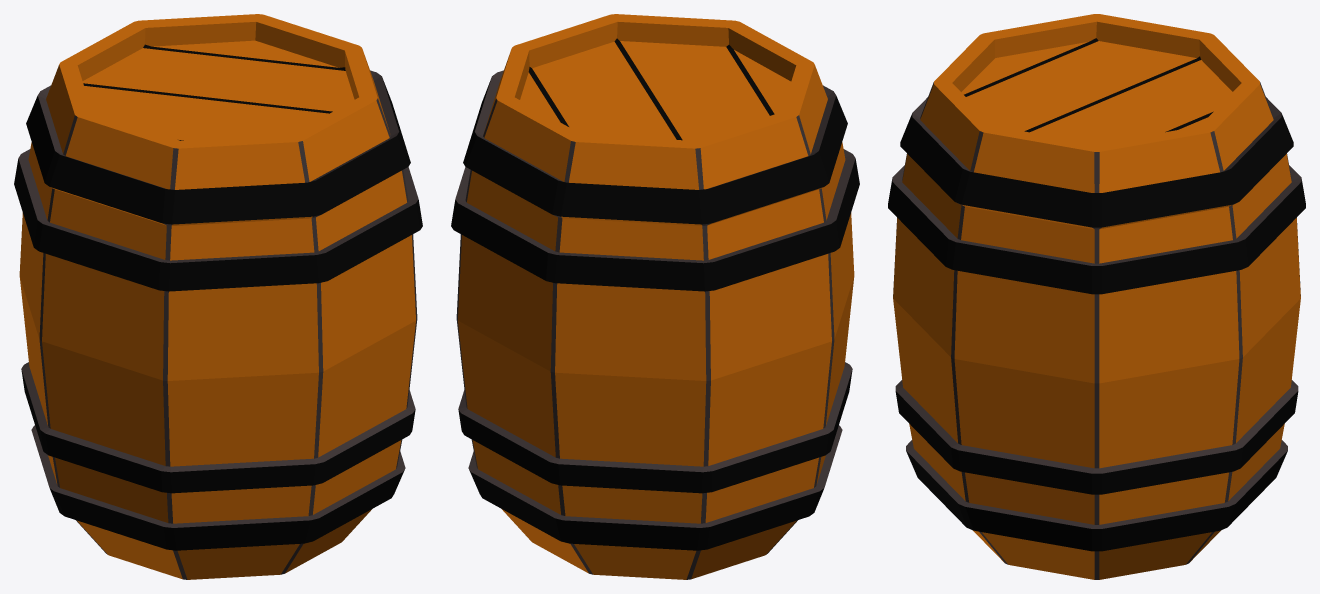
The model's file is Barrel.glb.
The picture shows the model from 3 angles, left to right: view 1: azimuth 30°, elevation 25°; view 2: azimuth 150°, elevation 25°; view 3: azimuth 270°, elevation 25°; orthographic projection.
Visible parts, largest first — view 1: Barrel; view 2: Barrel; view 3: Barrel.
Boxes of the visible parts, bbox=[...] form: Barrel: bbox=[14, 14, 422, 579]; Barrel: bbox=[451, 14, 859, 579]; Barrel: bbox=[888, 14, 1305, 579].
Size of the model in its own units: 2.9 by 3.39 by 2.9.
Materials: 1 (1 with a texture image).
